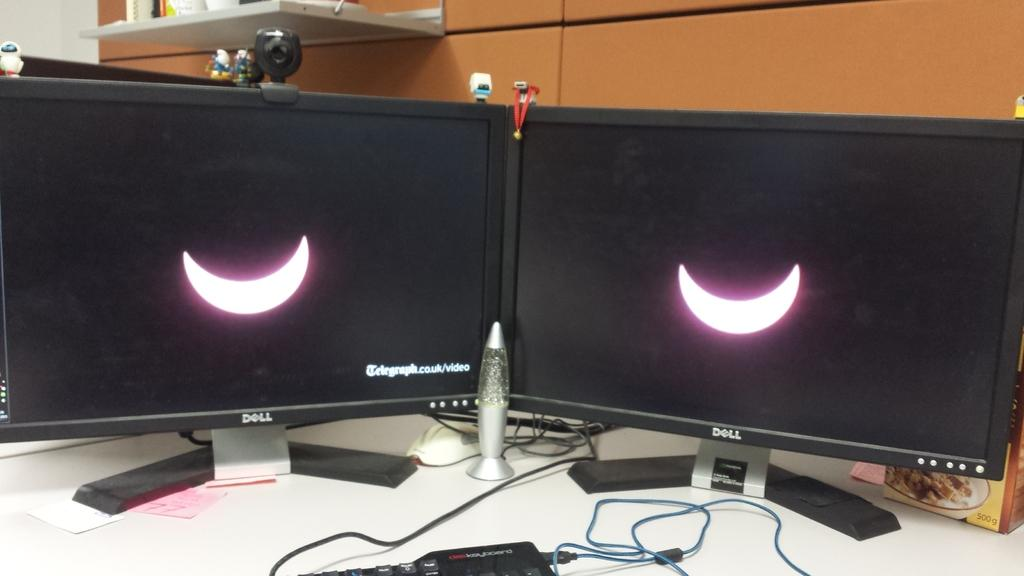Computer-monitor: (499, 100, 1023, 543), (9, 70, 531, 506)
